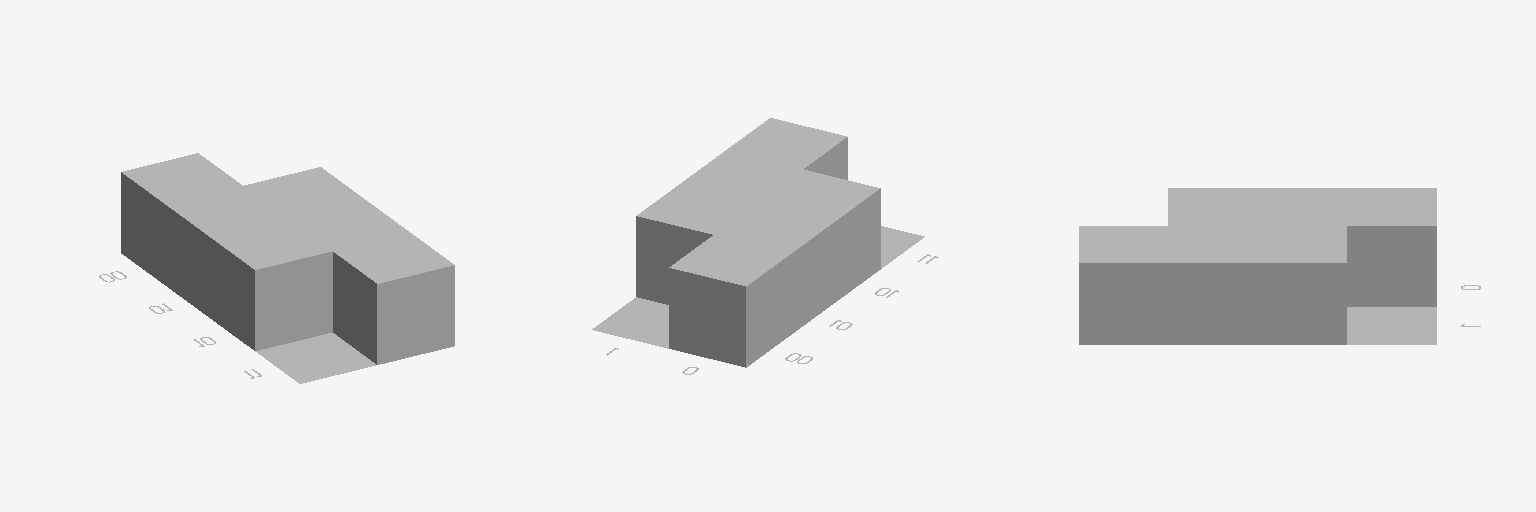
3 views of the same model, side by side, from view 1: azimuth 30°, elevation 25°; view 2: azimuth 150°, elevation 25°; view 3: azimuth 270°, elevation 25° (orthographic).
Visible parts, largest first — view 1: Object(1,3)[length_1], Object(2,4)[length_1], Object(1,1)[length_1], Object(1,2)[length_1], Object(1,4)[length_0], Object(2,3)[length_1], Object(2,2)[length_1]; view 2: Object(1,1)[length_1], Object(1,3)[length_1], Object(1,2)[length_1], Object(2,2)[length_1], Object(2,4)[length_1], Object(2,3)[length_1], Object(2,1)[length_0], Object(1,4)[length_0]; view 3: Object(1,1)[length_1], Object(2,3)[length_1], Object(2,2)[length_1], Object(2,4)[length_1], Object(1,3)[length_1], Object(2,1)[length_0], Object(1,2)[length_1].
Part boxes in pixels (x1,y1,x2,y2): Object(1,3)[length_1]: (210, 219, 332, 350); Object(2,4)[length_1]: (333, 233, 454, 364); Object(1,1)[length_1]: (121, 153, 242, 285); Object(1,2)[length_1]: (166, 186, 287, 317); Object(1,4)[length_0]: (255, 333, 375, 383); Object(2,3)[length_1]: (288, 200, 409, 250); Object(2,2)[length_1]: (244, 167, 364, 217); Object(1,1)[length_1]: (669, 235, 790, 367); Object(1,3)[length_1]: (759, 169, 880, 301); Object(1,2)[length_1]: (714, 202, 835, 334); Object(2,2)[length_1]: (636, 183, 757, 304); Object(2,4)[length_1]: (726, 118, 847, 179); Object(2,3)[length_1]: (682, 151, 802, 201); Object(2,1)[length_0]: (592, 297, 668, 348); Object(1,4)[length_0]: (881, 226, 924, 268); Object(1,1)[length_1]: (1347, 188, 1436, 306); Object(2,3)[length_1]: (1168, 226, 1257, 344); Object(2,2)[length_1]: (1258, 226, 1346, 344); Object(2,4)[length_1]: (1079, 226, 1167, 344); Object(1,3)[length_1]: (1168, 188, 1257, 225); Object(2,1)[length_0]: (1347, 307, 1436, 344); Object(1,2)[length_1]: (1258, 188, 1346, 225).
Size of the model in its own units: 2.54 by 1 by 4.5.